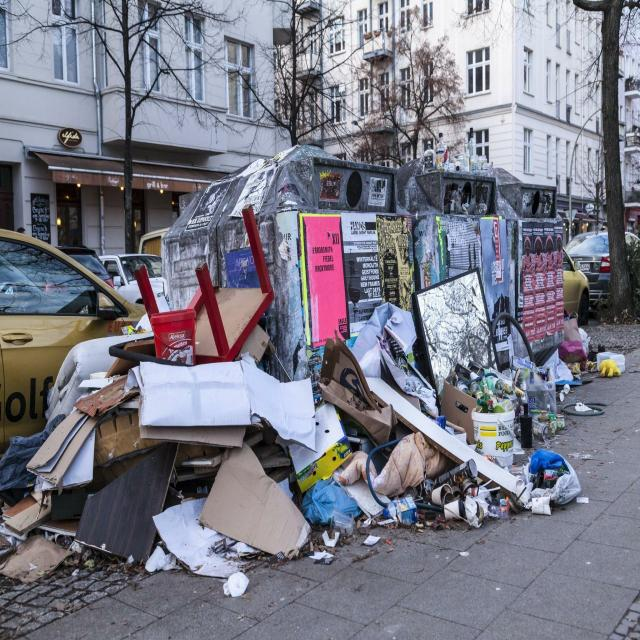garbage: (5, 220, 636, 582)
